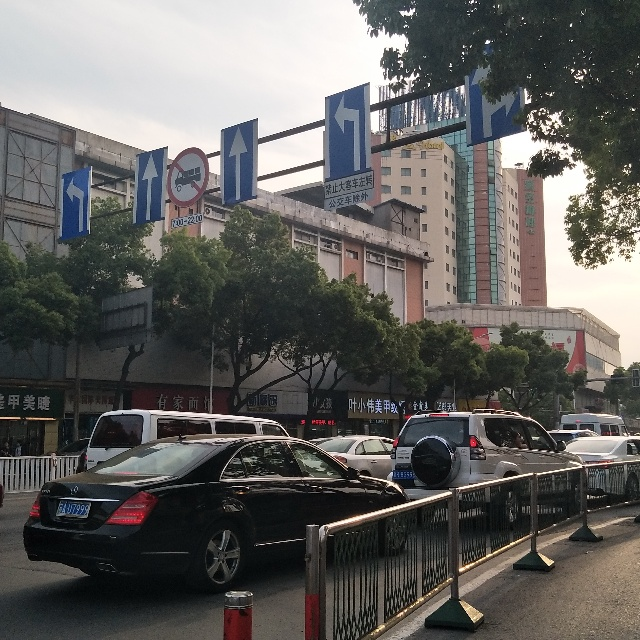left: (329, 97, 367, 176), (62, 173, 89, 236)
straight: (224, 128, 257, 198), (138, 151, 162, 223)
